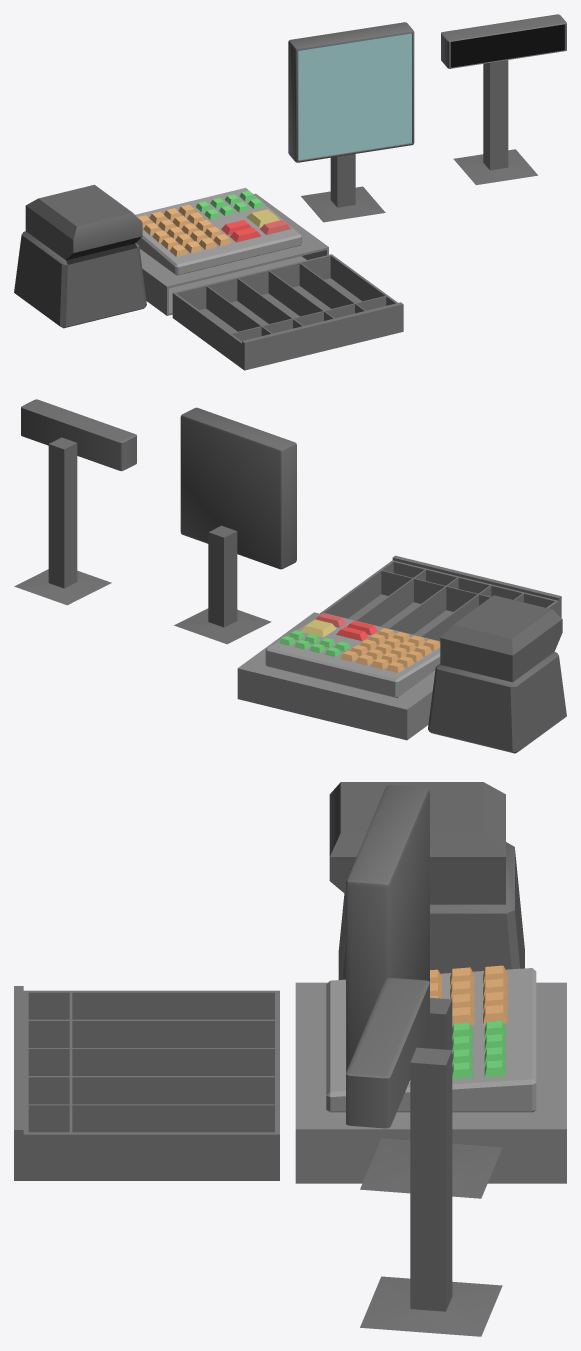
Rendered from safe.fbx.
3 views of the same model, one above another, from view 1: azimuth 30°, elevation 25°; view 2: azimuth 150°, elevation 25°; view 3: azimuth 270°, elevation 25° (orthographic). The views are drawn at different scales.
Parts seen in each view (by area): view 1: Cube.001, safe.001, Cube, safe, Cube.002; view 2: Cube.001, safe, Cube, Cube.002, safe.001; view 3: safe.001, safe, Cube.002, Cube.001, Cube.
Part boxes in pixels (x1=…): Cube.001: x1=288, y1=22, x2=414, y2=222; safe.001: x1=172, y1=254, x2=403, y2=370; Cube: x1=14, y1=184, x2=146, y2=328; safe: x1=135, y1=187, x2=328, y2=315; Cube.002: x1=441, y1=14, x2=566, y2=185; Cube.001: x1=174, y1=407, x2=296, y2=644; safe: x1=237, y1=612, x2=440, y2=740; Cube: x1=428, y1=595, x2=566, y2=753; Cube.002: x1=14, y1=399, x2=136, y2=605; safe.001: x1=320, y1=555, x2=561, y2=641; safe.001: x1=14, y1=986, x2=279, y2=1180; safe: x1=295, y1=965, x2=566, y2=1183; Cube.002: x1=346, y1=977, x2=502, y2=1336; Cube.001: x1=346, y1=785, x2=502, y2=1198; Cube: x1=329, y1=782, x2=524, y2=979.
Size of the model in its own units: 806 by 320 by 408.
